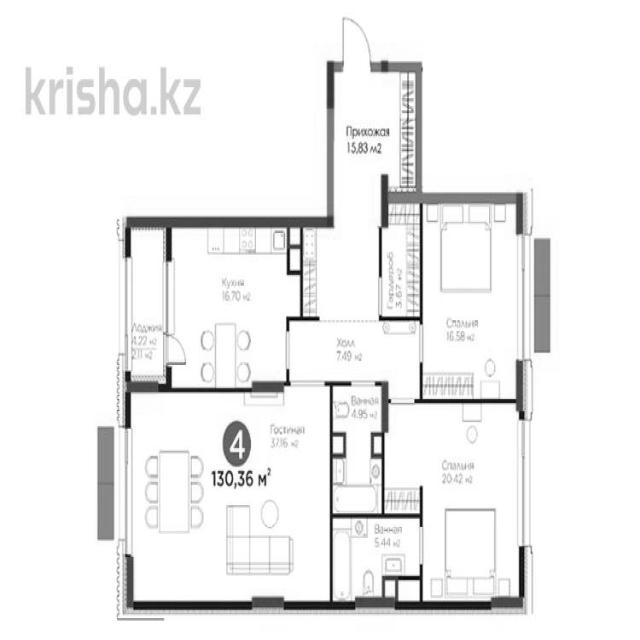balcony: (128, 221, 168, 389)
bathroom: (332, 514, 422, 604), (330, 384, 387, 516)
hallway: (291, 218, 379, 381), (330, 70, 420, 198), (386, 316, 420, 516)
kitchen: (168, 225, 290, 398)
living_room: (129, 388, 327, 606), (422, 405, 526, 608), (422, 198, 523, 403)
other: (379, 203, 424, 318)
